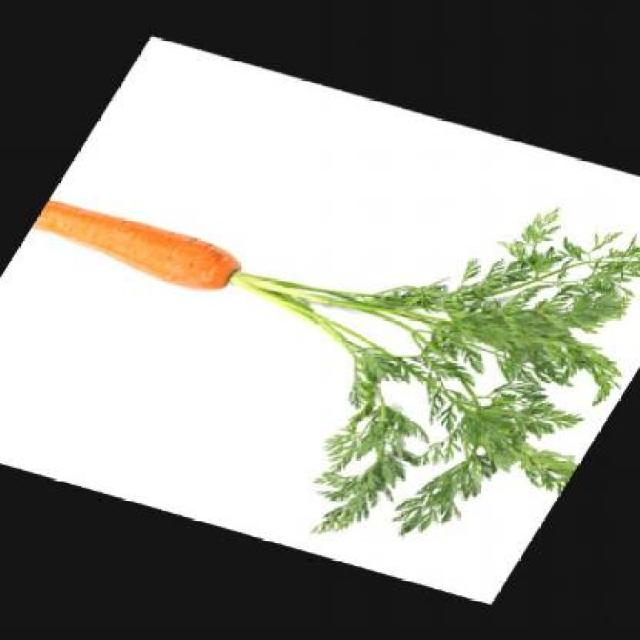carrot: (20, 194, 249, 300)
